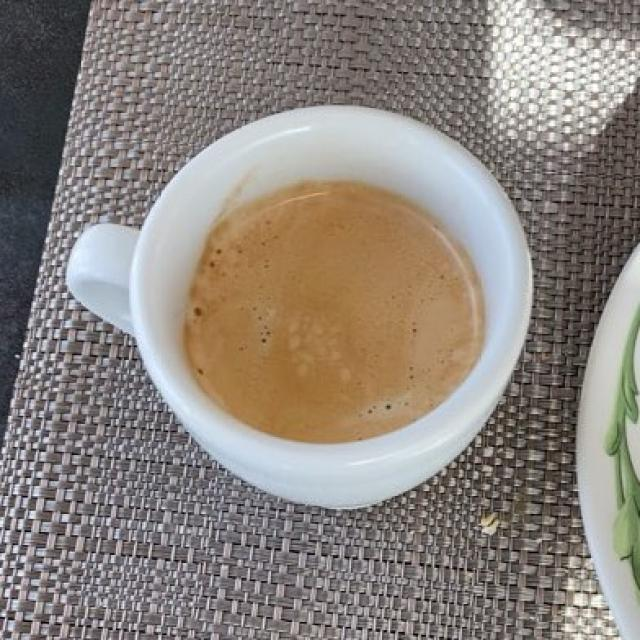coffee: (189, 184, 478, 433)
